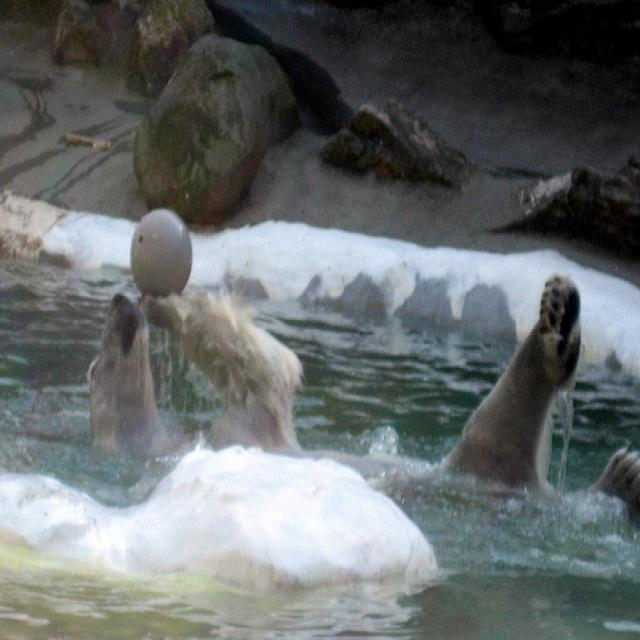Bear: (89, 270, 640, 551)
